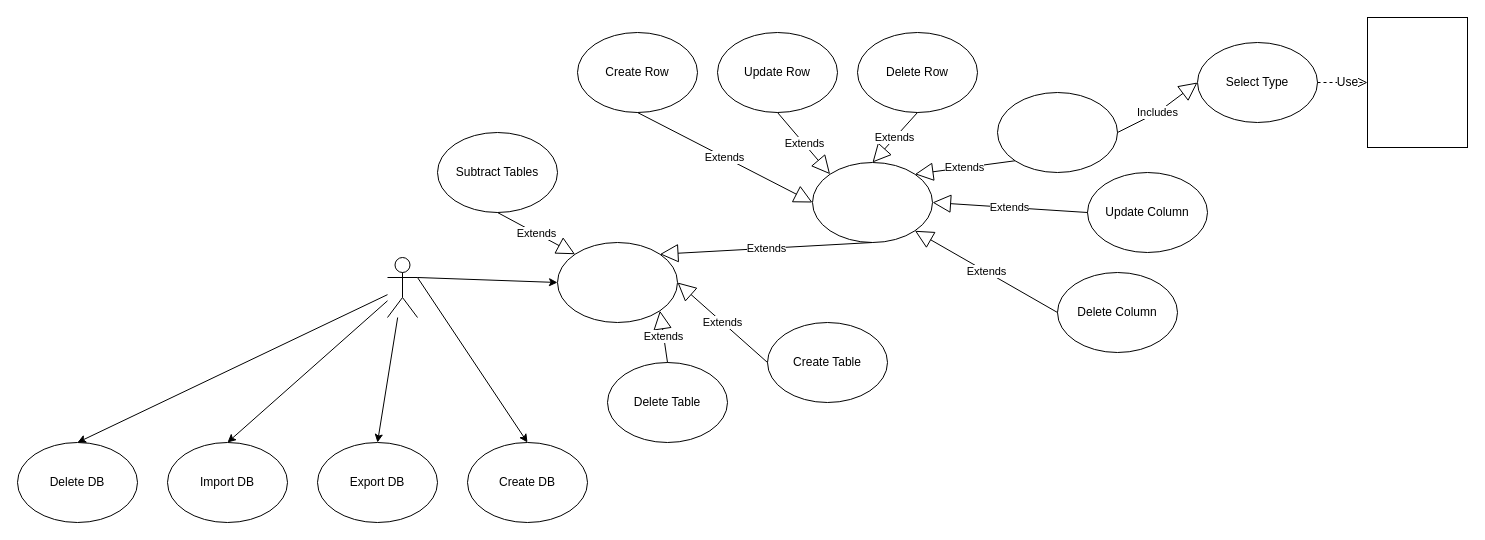
The diagram is 1485 pixels wide and 540 high, and some of its shapes have lost their labels. Each missing label, with the centre of its shape:
"Actor" belongs at pixel 402 287.
"Create Column" belongs at pixel 1057 132.
"Edit DB" belongs at pixel 617 282.
"Edit Table" belongs at pixel 872 202.
"Types - integer - real - char - string - Image - realInvl" belongs at pixel 1417 82.
